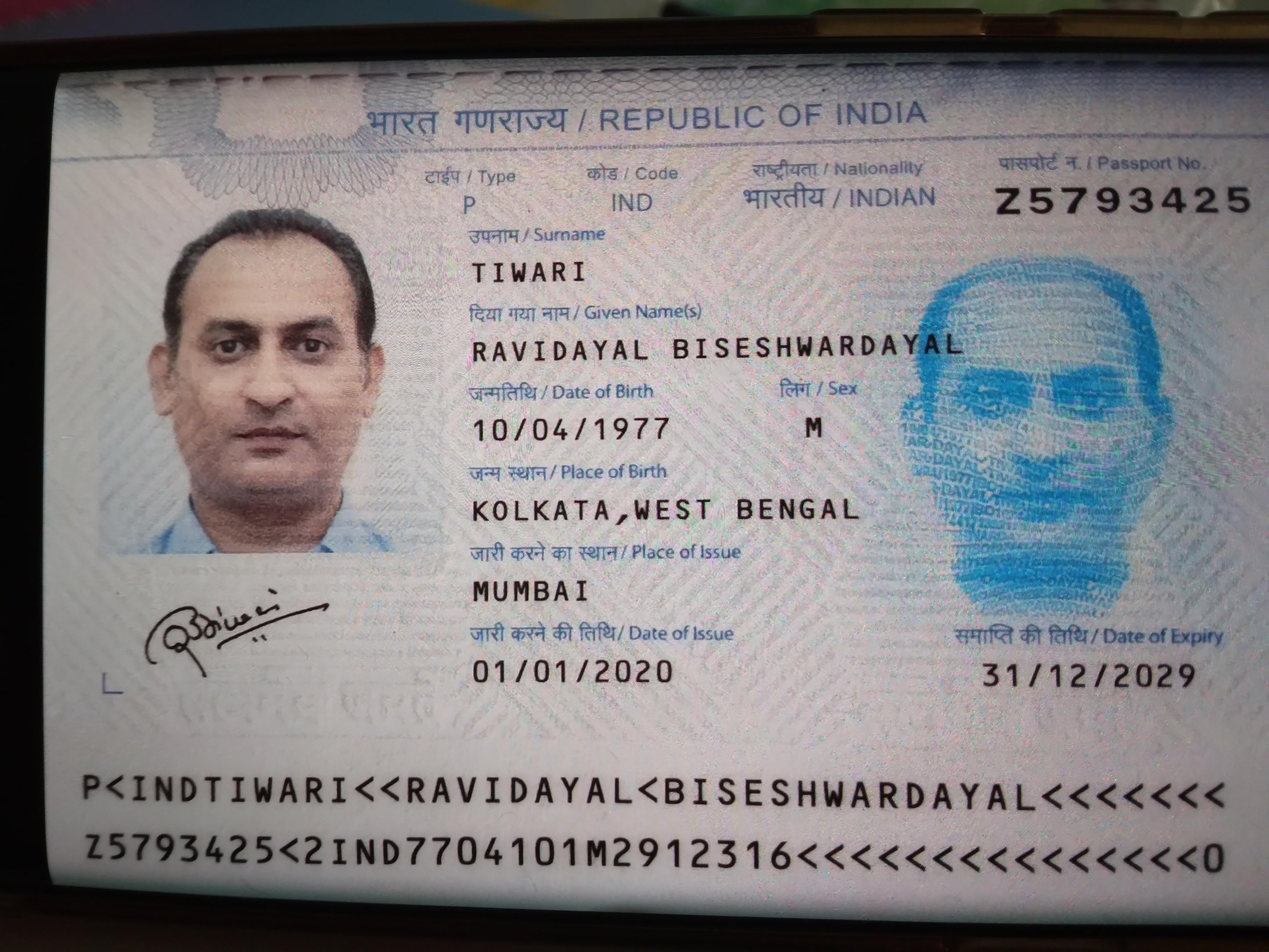DOB: (461, 407, 680, 452)
Surname: (468, 249, 595, 294)
country_code: (595, 183, 668, 219)
date_of_expiry: (967, 654, 1208, 700)
date_of_issue: (467, 647, 679, 696)
details: (59, 751, 1248, 901)
name: (465, 326, 993, 365)
nationality: (734, 183, 952, 216)
passport_no: (985, 178, 1260, 224)
photo: (98, 203, 419, 560)
place_of_birth: (461, 485, 880, 534)
place_of_issue: (445, 561, 609, 607)
sex: (792, 406, 847, 457)
sign: (122, 581, 368, 683)
type: (441, 189, 501, 222)
